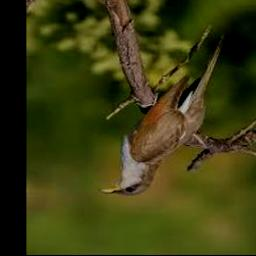Cuckoo: (99, 36, 224, 196)
